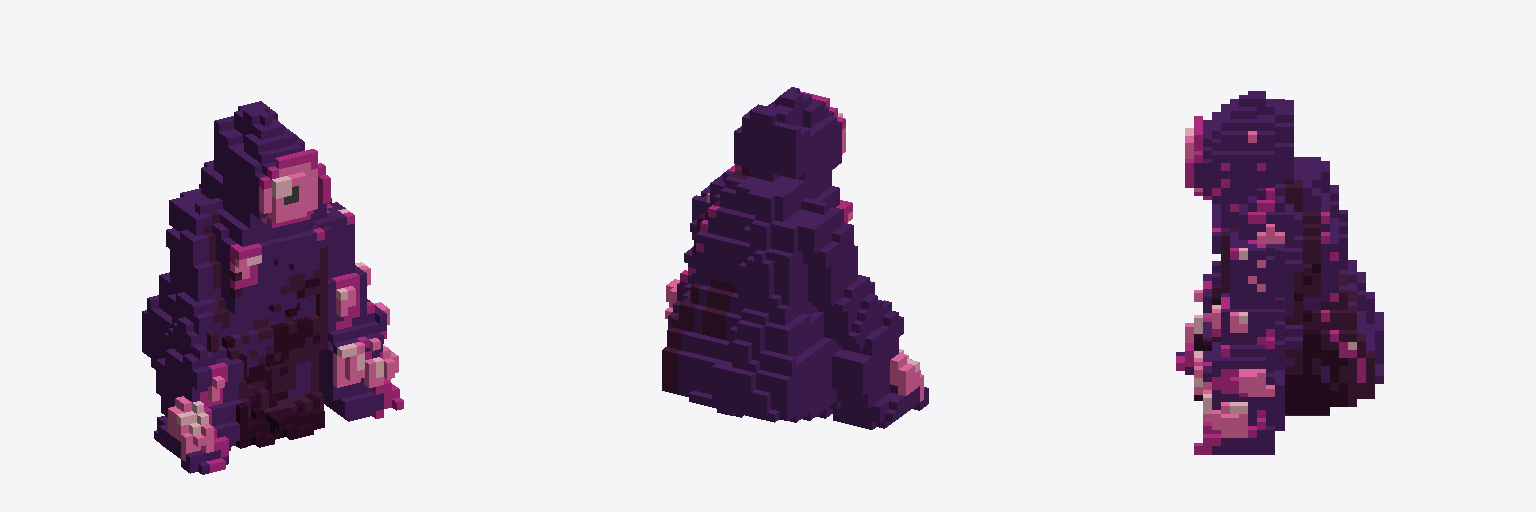
3 views of the same model, side by side, from view 1: azimuth 30°, elevation 25°; view 2: azimuth 150°, elevation 25°; view 3: azimuth 270°, elevation 25° (orthographic).
Parts seen in each view (by area): view 1: object 1; view 2: object 1; view 3: object 1.
Boxes of the visible parts, x1,y1,x2,y2 form: object 1: [142, 101, 403, 474]; object 1: [662, 87, 928, 429]; object 1: [1176, 91, 1383, 454].
Size of the model in its own units: 2.9 by 3.8 by 2.3.
Materials: 1 (1 with a texture image).